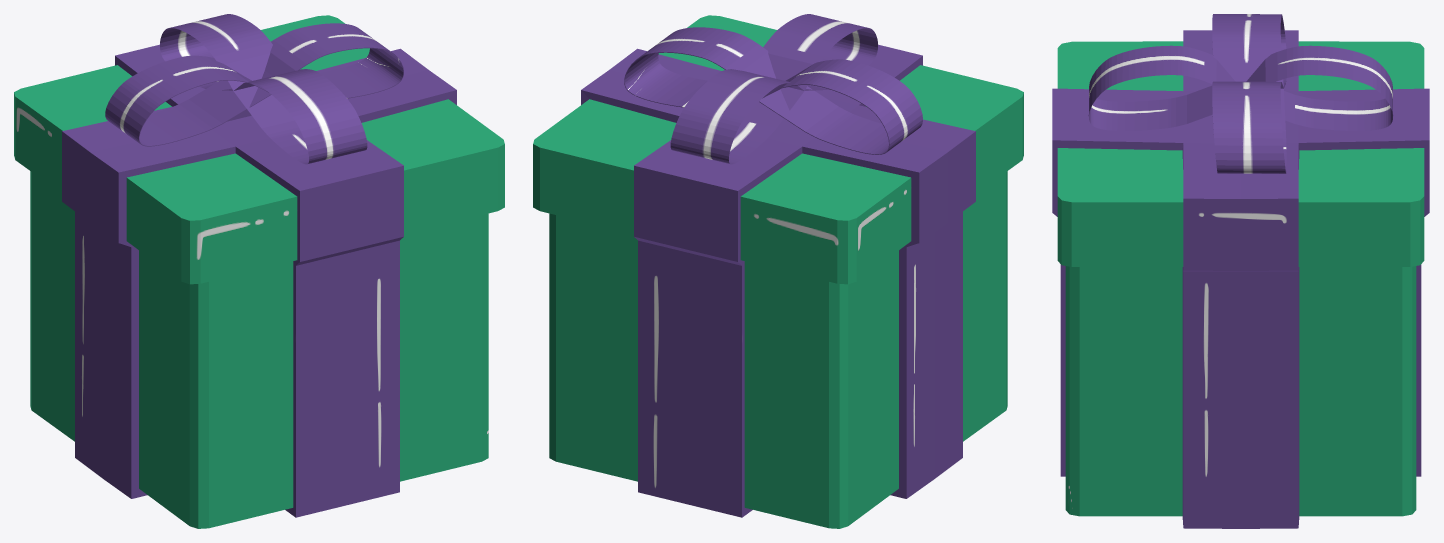
File: Gift_1.glb
The picture shows the model from 3 angles, left to right: view 1: azimuth 30°, elevation 25°; view 2: azimuth 150°, elevation 25°; view 3: azimuth 270°, elevation 25°; orthographic projection.
Visible parts, largest first — view 1: XmasGifts_01; view 2: XmasGifts_01; view 3: XmasGifts_01.
Boxes of the visible parts, left/top/right/bottom form: XmasGifts_01: left=14, top=14, right=504, bottom=528; XmasGifts_01: left=533, top=14, right=1023, bottom=528; XmasGifts_01: left=1052, top=14, right=1429, bottom=528.
Bounding box in the file's own units: 2.27 × 2.47 × 2.15.
2 materials, 2 textured.
